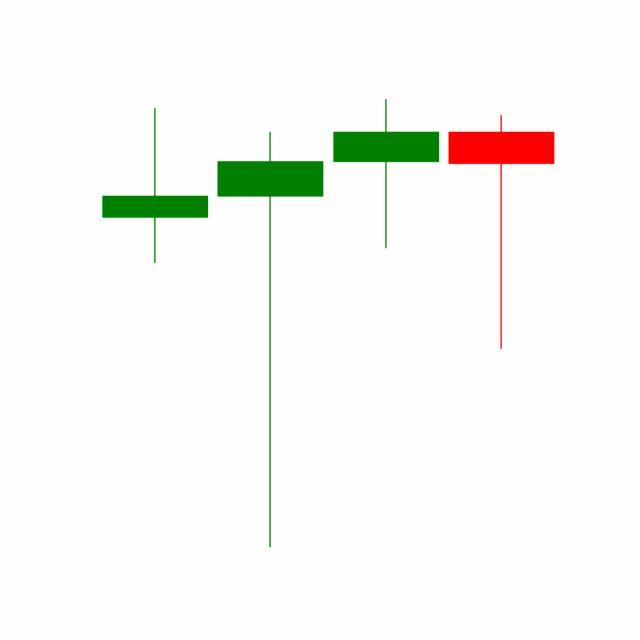Spinning Top: (329, 98, 445, 252)
